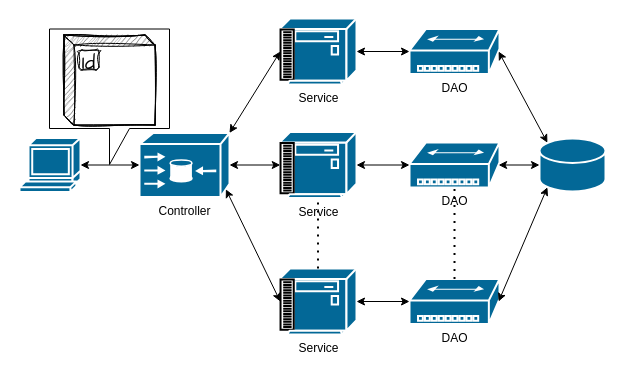
The diagram is 624 pixels wide and 372 high, and some of its shapes have lost their labels. The shapes that lost their labels are listed below. From the top down, each one's centre as x and y in pixels, then its label:
[109,79]: Objects
[49,164]: ATM (Client)
[572,164]: Database
